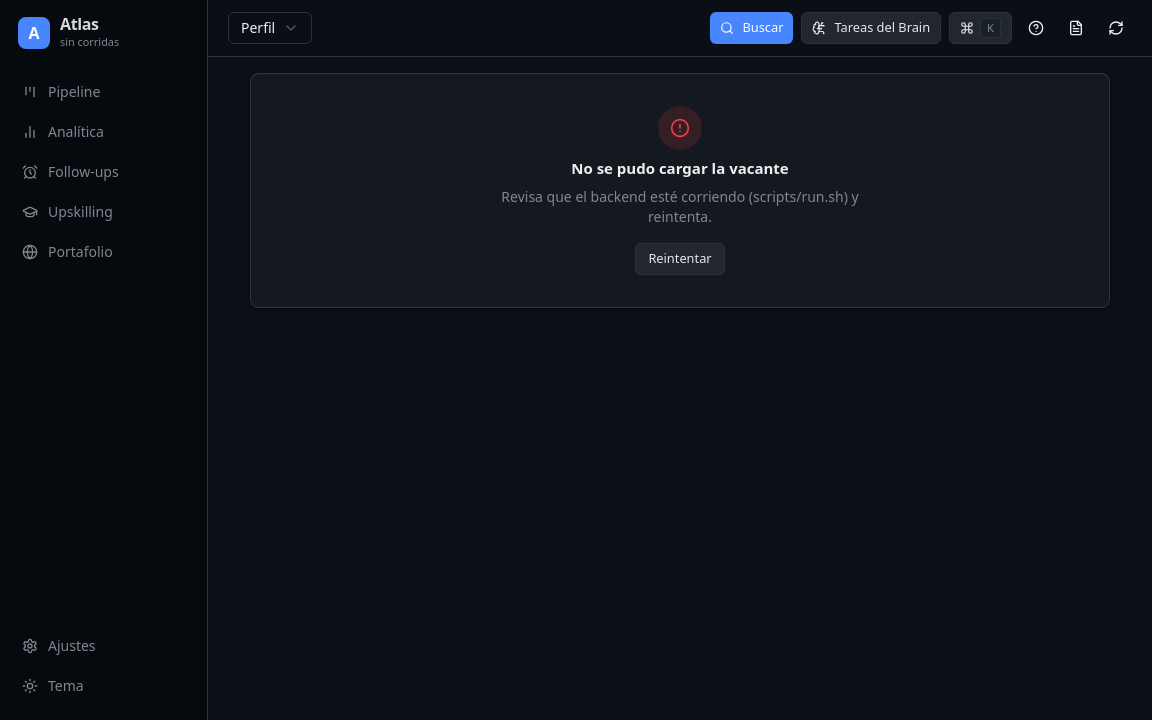
Scenario: JobDetailPage — página /jobs/:id con tabs › si /api/job falla muestra ErrorState y Reintentar vuelve a pedirlo (recupera al éxito)
Expected: the text "No se pudo cargar la vacante" is shown, 571,158 -> 789,179
Click the button "Reintentar" at (680, 259), box 635,243 -> 725,275
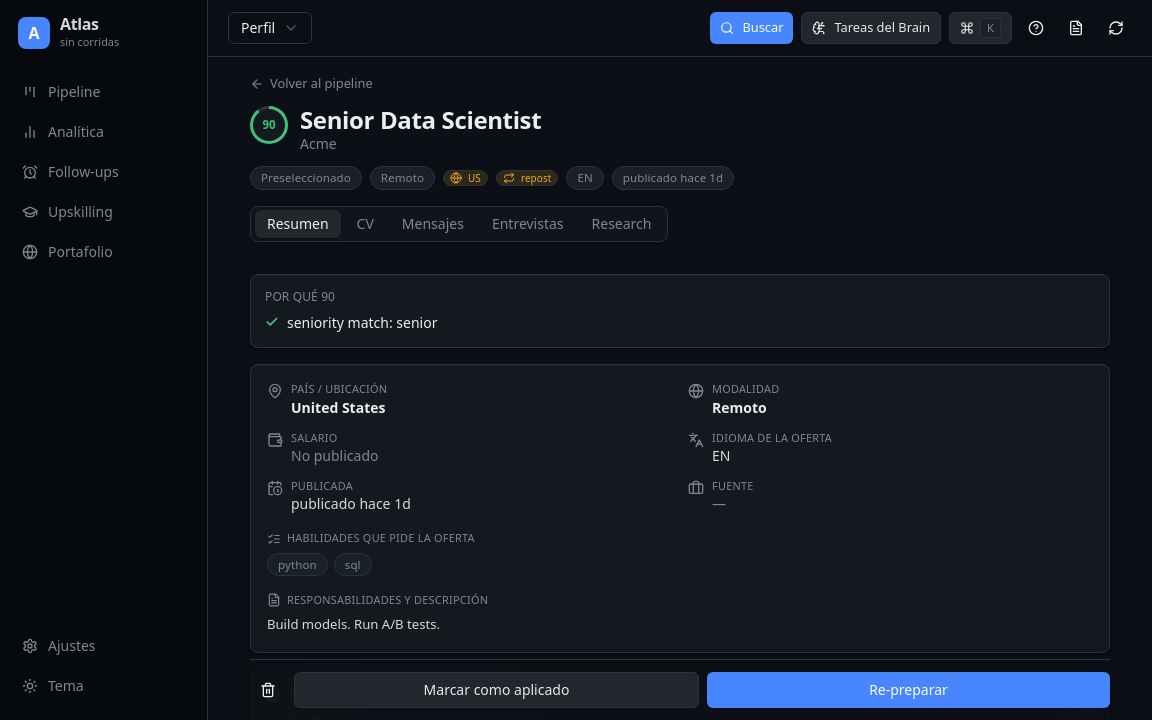
Expected: the heading "Senior Data Scientist" is shown, 300,103 -> 541,136
Expected: the text "No se pudo cargar la vacante" is gone
